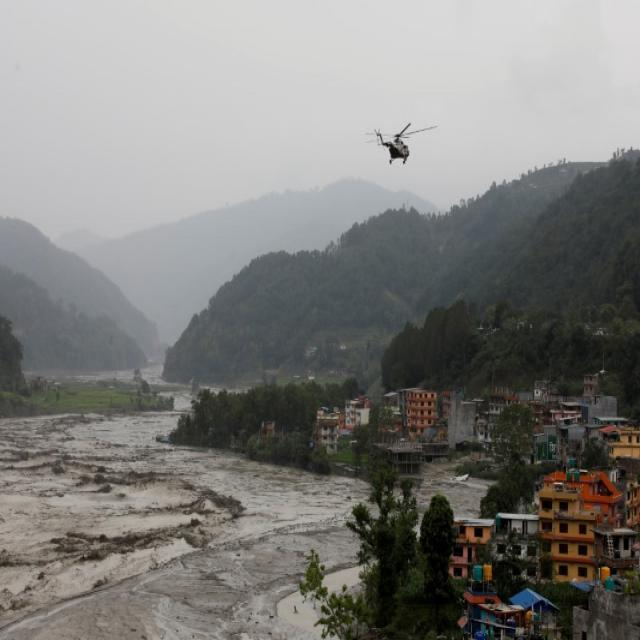flood: (0, 413, 369, 640), (412, 456, 492, 514)
house: (543, 469, 602, 590), (447, 521, 496, 587), (496, 512, 539, 564), (546, 396, 592, 441), (406, 388, 438, 434), (314, 408, 344, 454), (604, 423, 640, 461), (342, 398, 371, 428), (485, 388, 510, 413)
